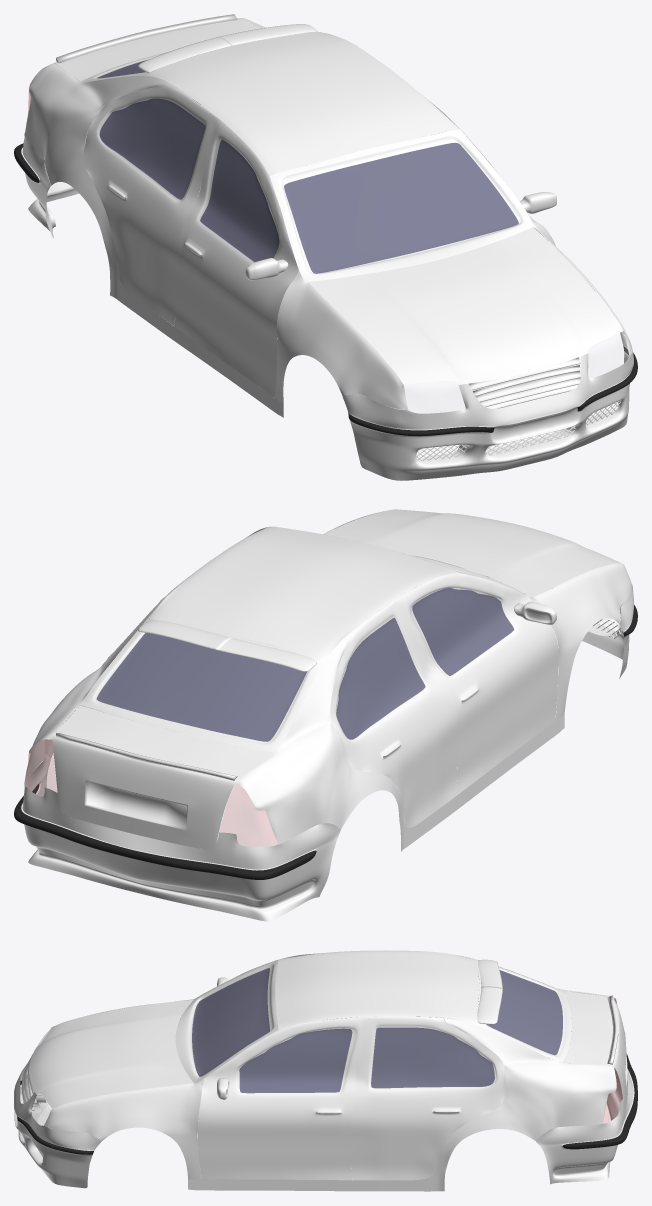
The picture shows the model from 3 angles, top to bottom: view 1: azimuth 30°, elevation 25°; view 2: azimuth 150°, elevation 25°; view 3: azimuth 270°, elevation 25°; orthographic projection. The views are drawn at different scales.
Parts seen in each view (by area): view 1: Hood, WindowF, Roof, DoorF, DoorB, BumperF, TenderB, TenderF, Trunk, CoolerSport, LightF, BumperB (+4 smaller); view 2: Roof, BumperB, DoorF, DoorB, WindowB, TenderB, Trunk, Hood, TenderF, LightB, Trunk recess, SpoilerR (+3 smaller); view 3: DoorF, DoorB, Roof, TenderB, Hood, WindowF, TenderF, BumperB, WindowB, BumperF, Trunk, SpoilerR (+4 smaller).
Part boxes in pixels (x1,y1,x2,y2): Hood: [308, 227, 623, 384]; WindowF: [269, 129, 533, 281]; Roof: [147, 31, 459, 175]; DoorF: [174, 93, 547, 397]; DoorB: [82, 39, 390, 325]; BumperF: [342, 332, 637, 480]; TenderB: [24, 18, 344, 417]; TenderF: [275, 214, 632, 409]; Trunk: [54, 18, 261, 109]; CoolerSport: [469, 357, 580, 408]; LightF: [404, 331, 628, 413]; BumperB: [14, 99, 244, 238]; Roof: [146, 526, 459, 662]; BumperB: [14, 754, 340, 921]; DoorF: [247, 527, 558, 793]; DoorB: [88, 560, 458, 827]; WindowB: [80, 619, 322, 752]; TenderB: [24, 595, 564, 851]; Trunk: [52, 705, 273, 849]; Hood: [324, 509, 621, 597]; TenderF: [323, 511, 632, 720]; LightB: [25, 739, 277, 846]; Trunk recess: [84, 780, 188, 830]; SpoilerR: [138, 620, 316, 671]; DoorF: [198, 953, 368, 1180]; DoorB: [351, 973, 505, 1180]; Roof: [275, 950, 479, 1030]; TenderB: [188, 955, 616, 1191]; Hood: [29, 999, 193, 1108]; WindowF: [175, 960, 278, 1083]; TenderF: [44, 997, 204, 1179]; BumperB: [535, 1031, 637, 1184]; WindowB: [476, 959, 571, 1062]; BumperF: [14, 1054, 101, 1188]; Trunk: [563, 991, 627, 1109]; SpoilerR: [477, 959, 502, 1024].
Size of the model in its own units: 2.08 by 1.37 by 4.78.
